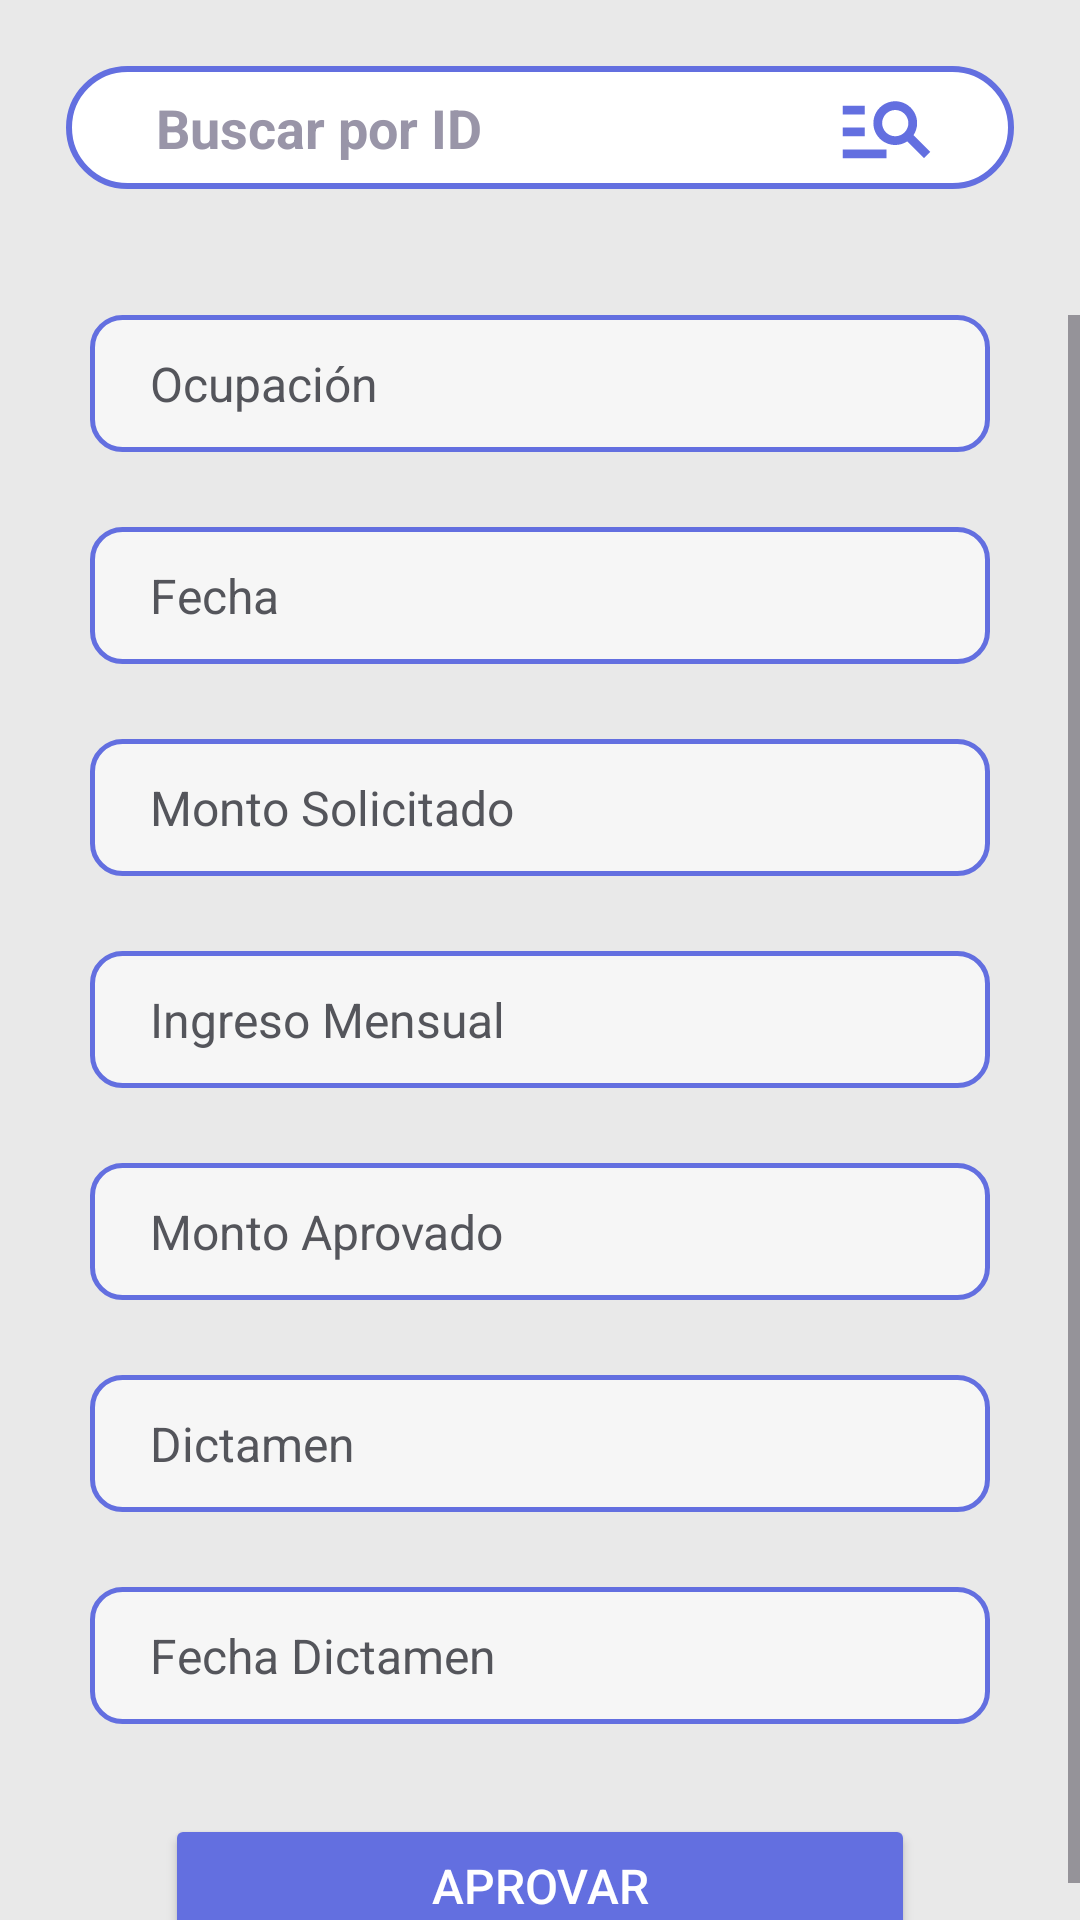

Screen size 1080w x 1920h. Icon name, then its center in pixels as [x,y]:
buscar prestamos: [886,130]
